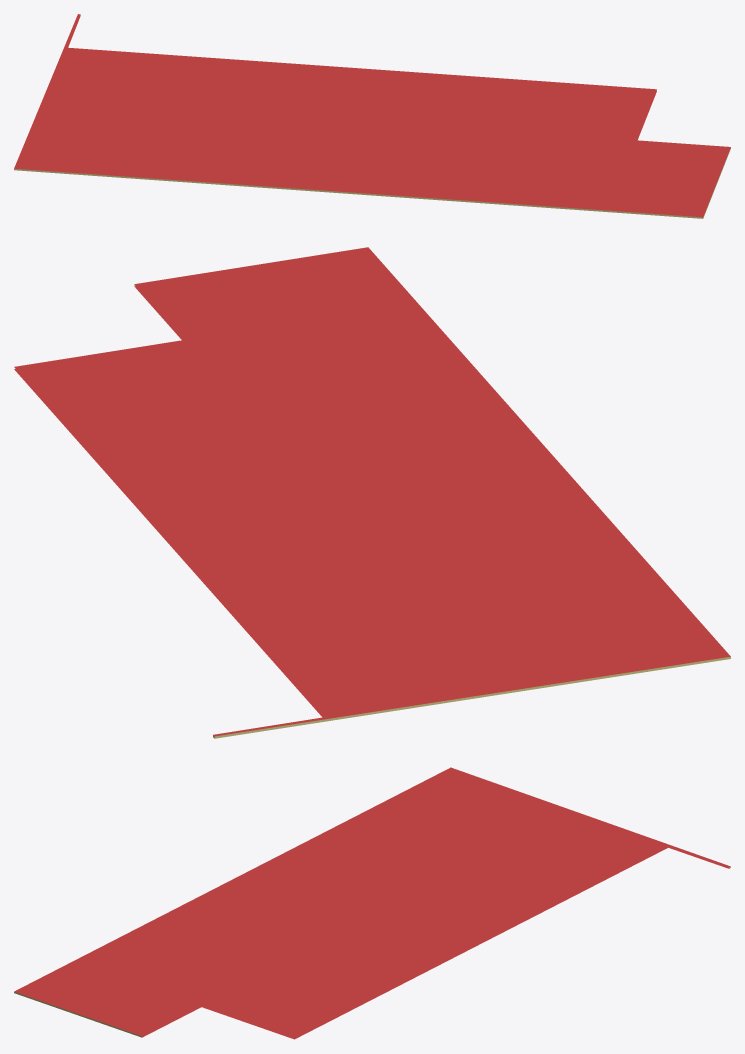
The picture shows the model from 3 angles, top to bottom: view 1: azimuth 30°, elevation 25°; view 2: azimuth 150°, elevation 25°; view 3: azimuth 270°, elevation 25°; orthographic projection. The views are drawn at different scales.
Visible parts, largest first — view 1: group_3, group_4; view 2: group_3, group_4, group_5; view 3: group_3, group_5.
Part boxes in pixels (box(x1,y1,x2,y2)): group_3: box(14, 14, 730, 217); group_4: box(14, 15, 730, 218); group_3: box(14, 247, 730, 736); group_4: box(134, 284, 730, 738); group_5: box(14, 286, 323, 717); group_3: box(14, 767, 730, 1037); group_5: box(142, 846, 729, 1039).
Size of the model in its own units: 37.59 by 42.11 by 0.1.
